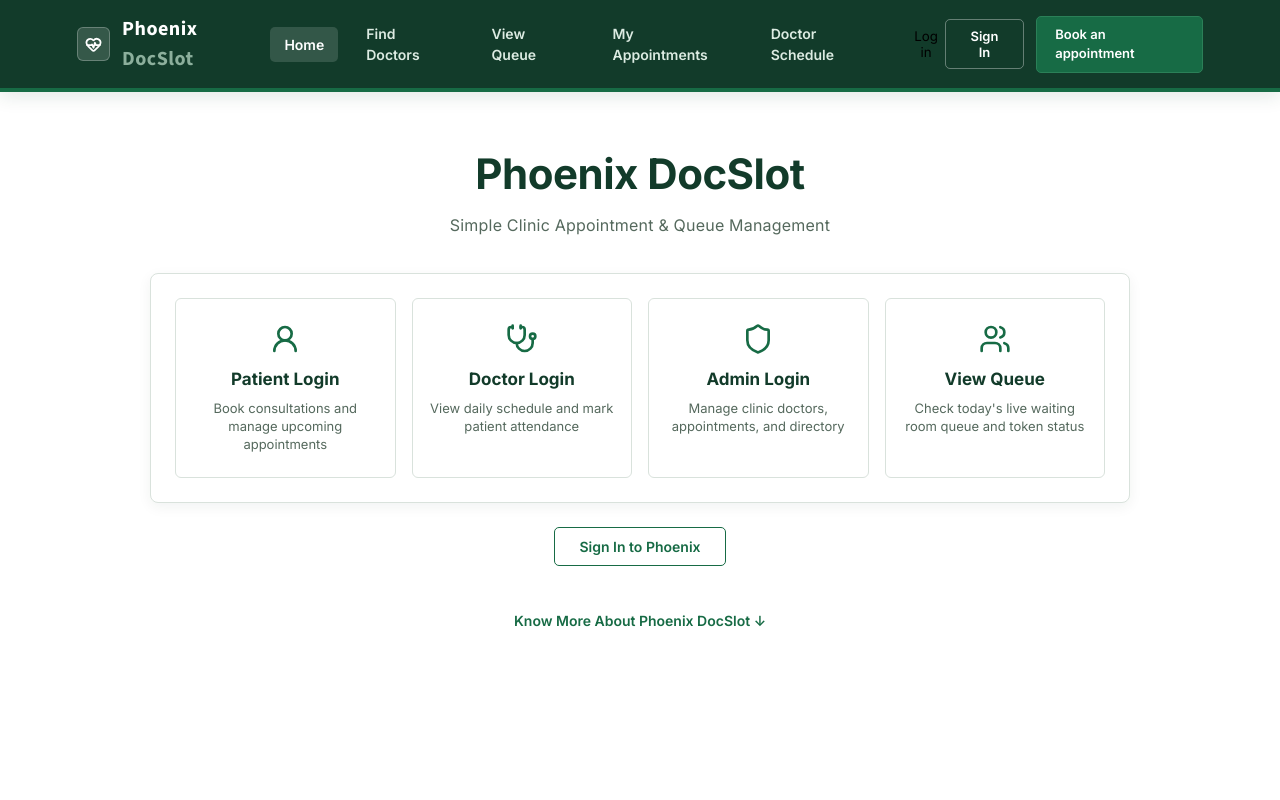
Test: PhoenixHome — Sign In Button and Auth Modal Interactions › opens the authentication modal when clicking the hero Sign In to Phoenix button
The width and height of the screenshot is (1280, 800).
Step 1. Click the button with class "hero-signin-btn" → (640, 547), box [554,527,726,566]
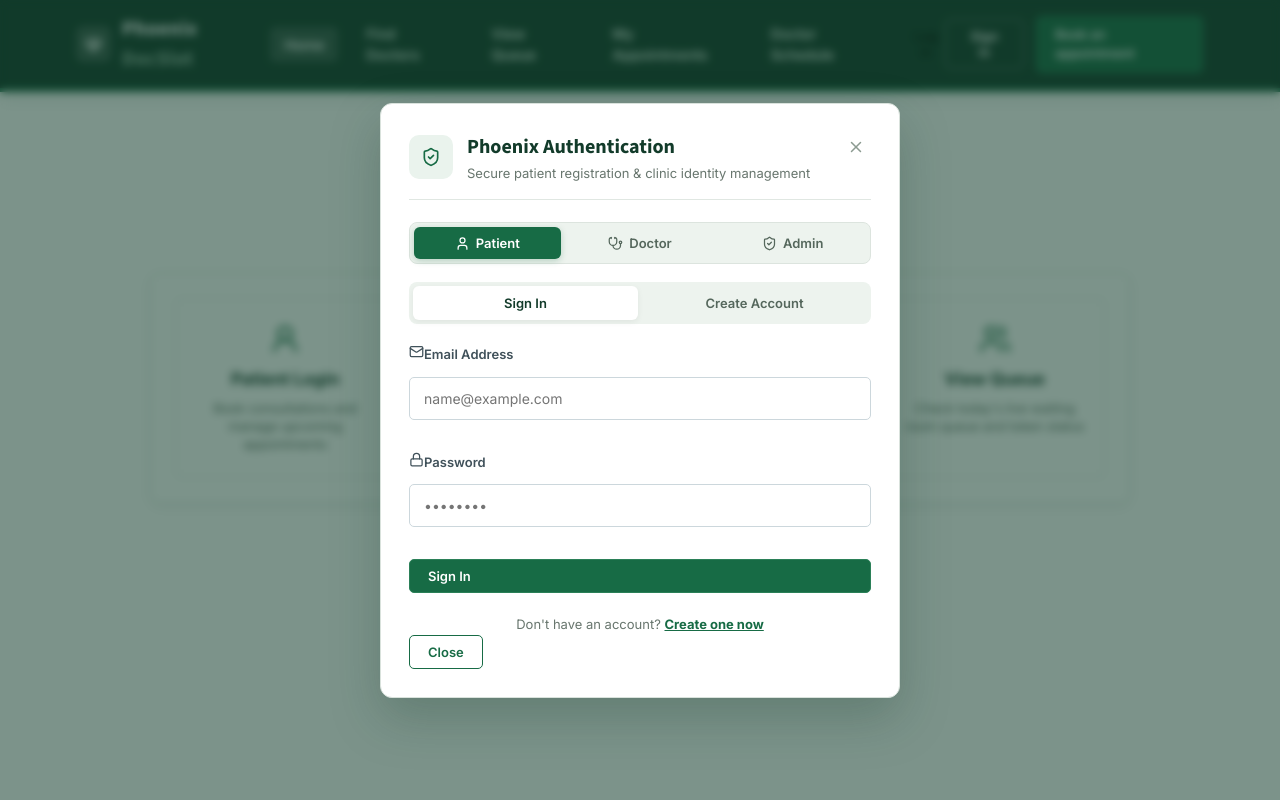
expect the dialog is shown: met
expect the heading "Phoenix Authentication" is shown: met, box [467,132,675,160]
expect the field labelled "Email Address" is shown: met, box [409,376,871,420]
